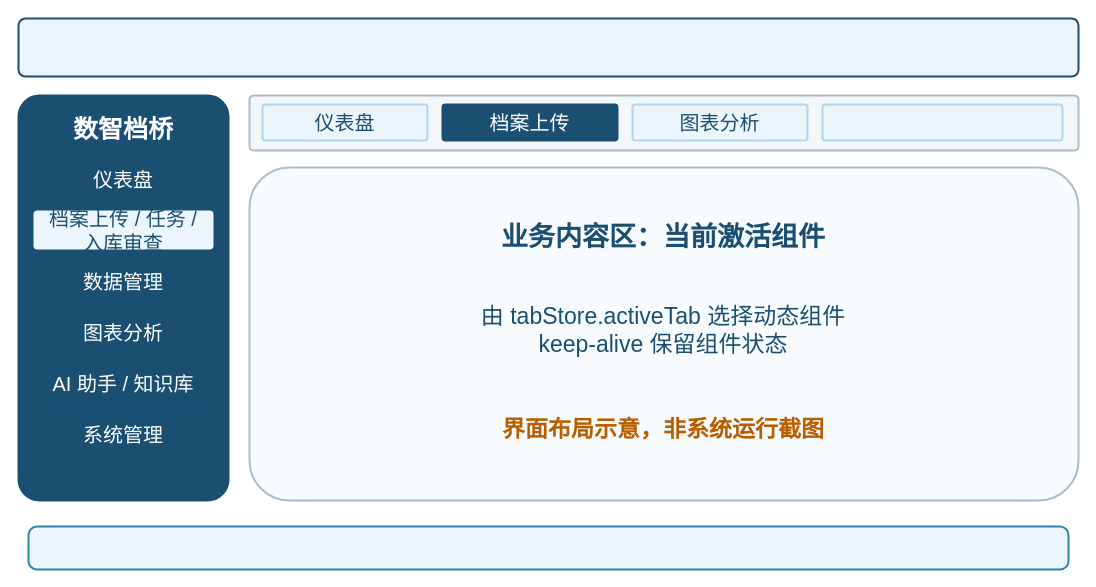
Image size: 1096x587. Some labels were removed from this diagram. Each missing label, with the box of its shape:
AI 助手: (821, 103, 1063, 141)
ArchiveBridge 当前页面 / 业务入口 用户菜单: (17, 17, 1079, 77)
点击菜单 → 添加或激活内部标签 → 切换业务组件；刷新后返回默认页面: (27, 525, 1069, 570)
